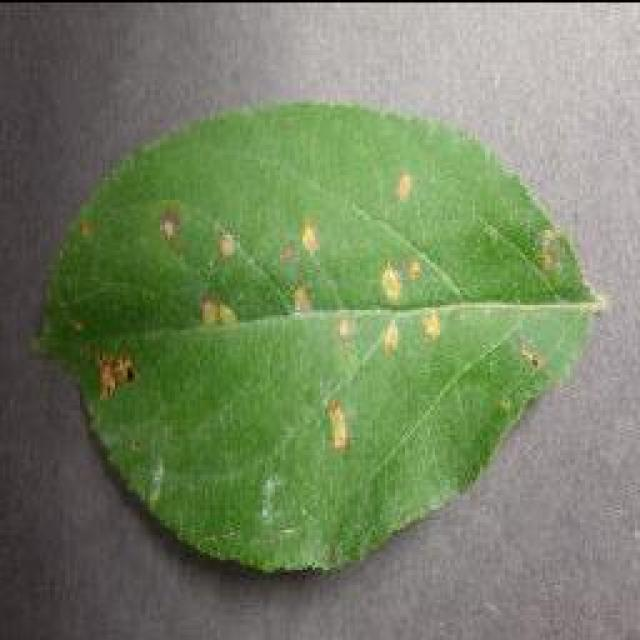apple healthy: (30, 95, 605, 577)
